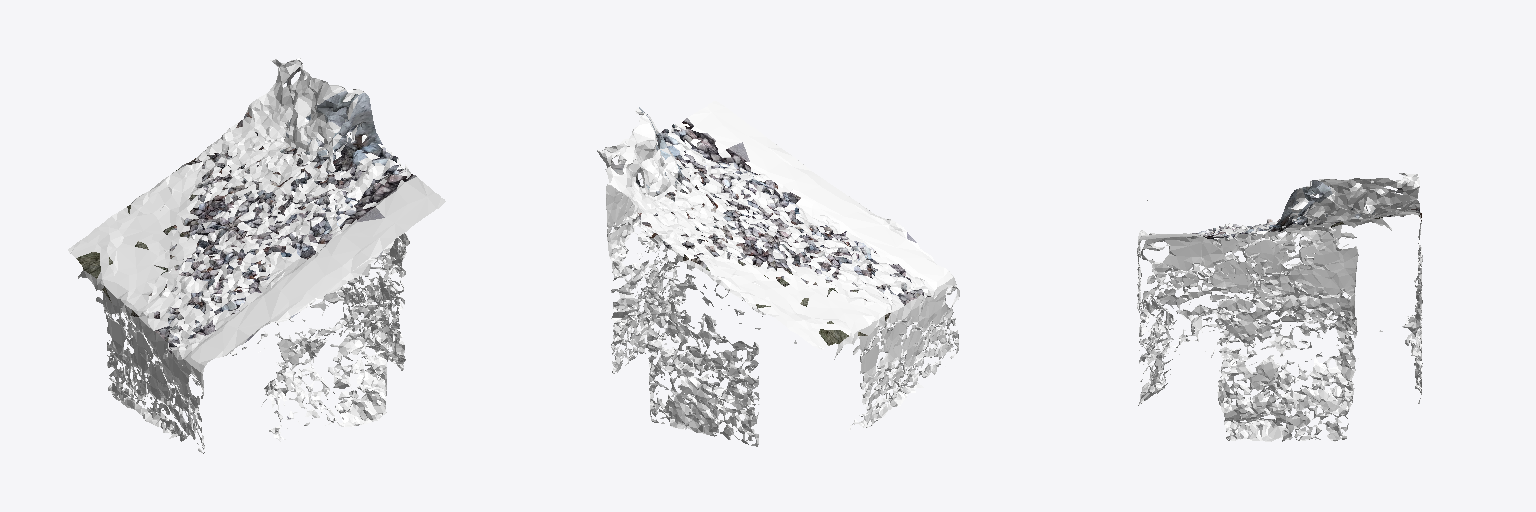
3 views of the same model, side by side, from view 1: azimuth 30°, elevation 25°; view 2: azimuth 150°, elevation 25°; view 3: azimuth 270°, elevation 25° (orthographic).
Size of the model in its own units: 4.08 by 4.03 by 4.07.
4 materials, 3 textured.